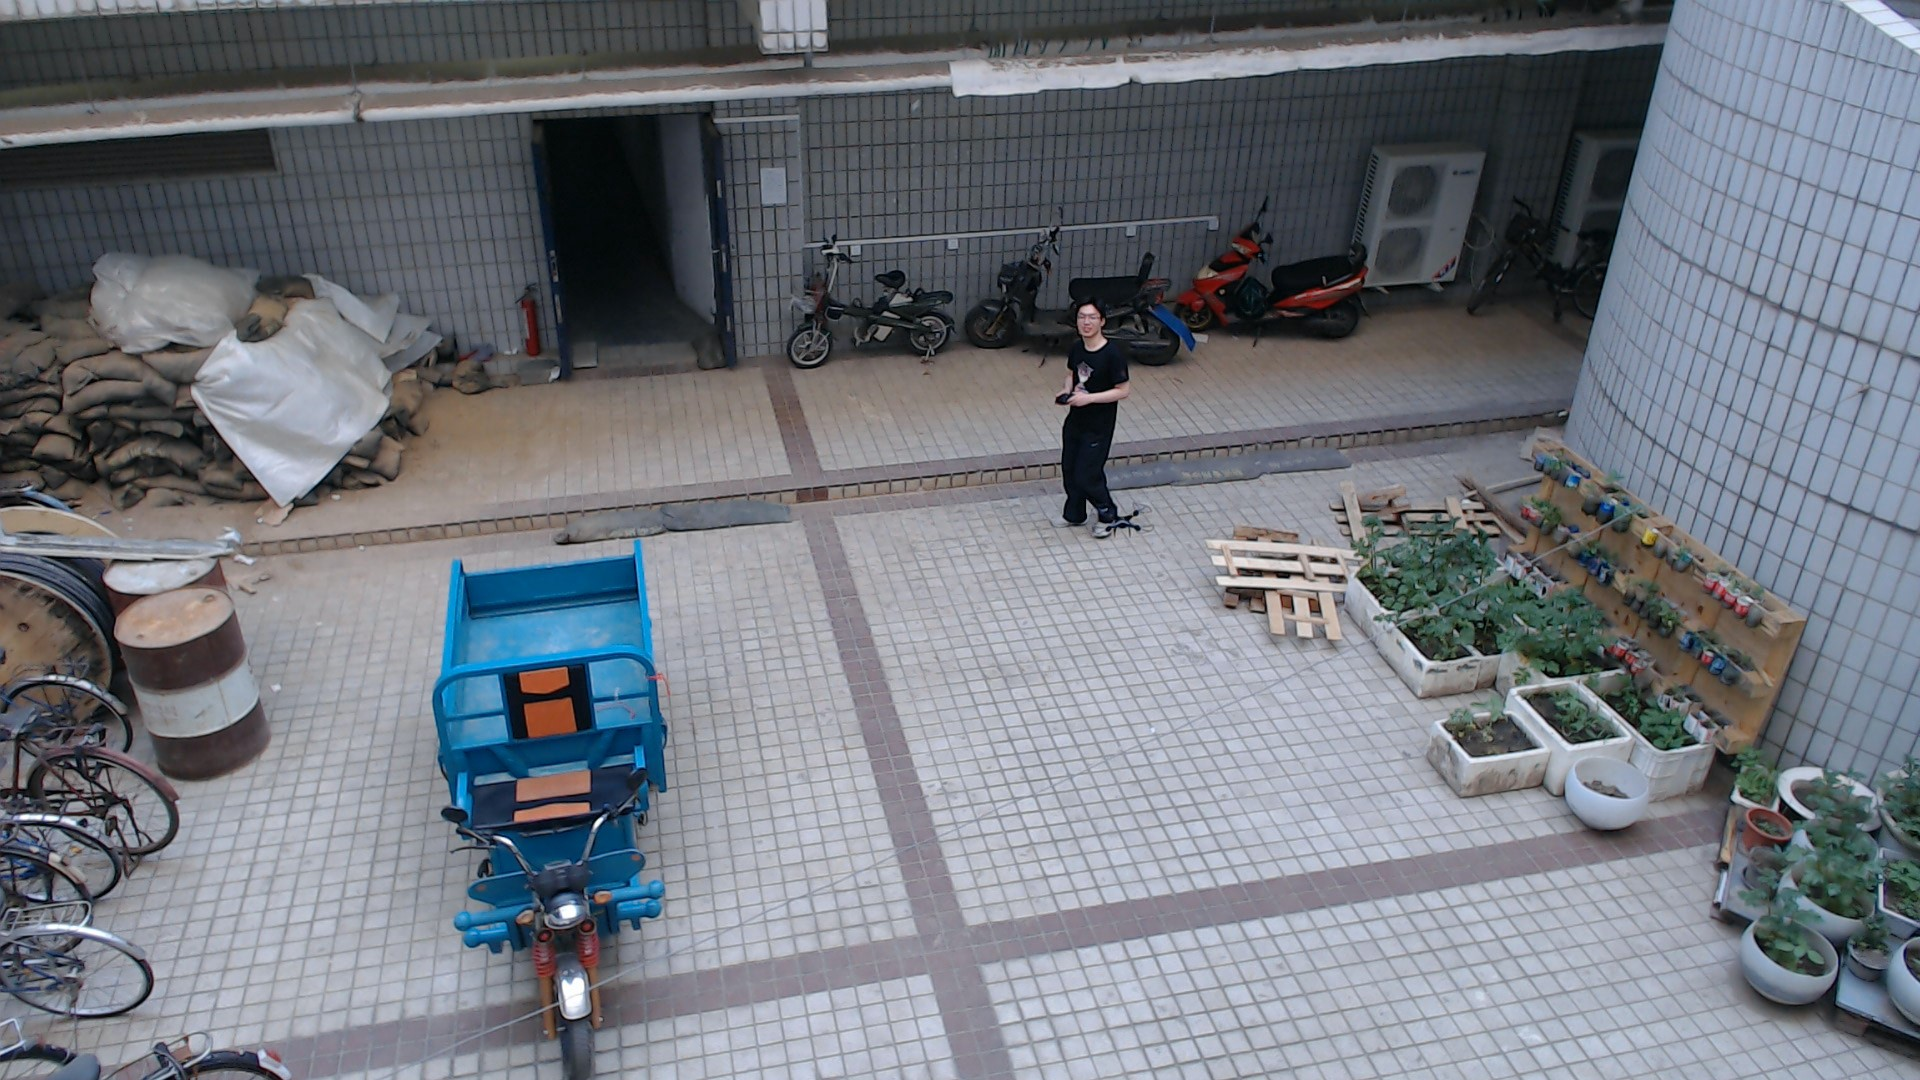drone: (1076, 496, 1168, 547)
person: (1041, 292, 1134, 546)
